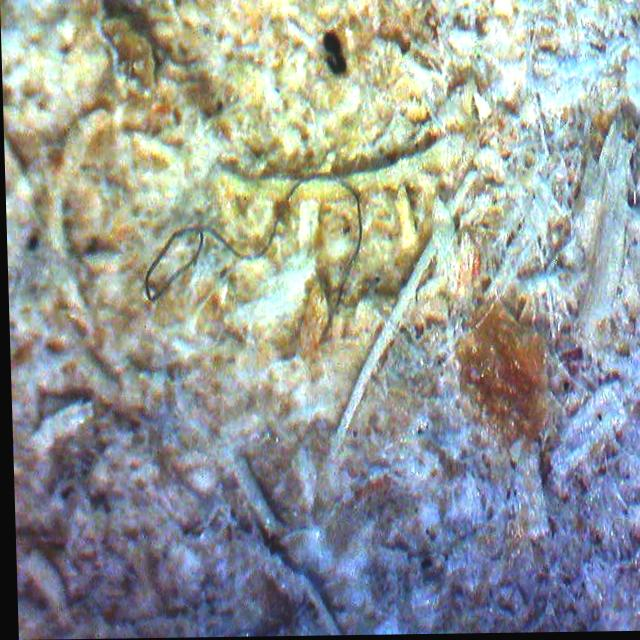microplastic: (138, 141, 375, 348)
